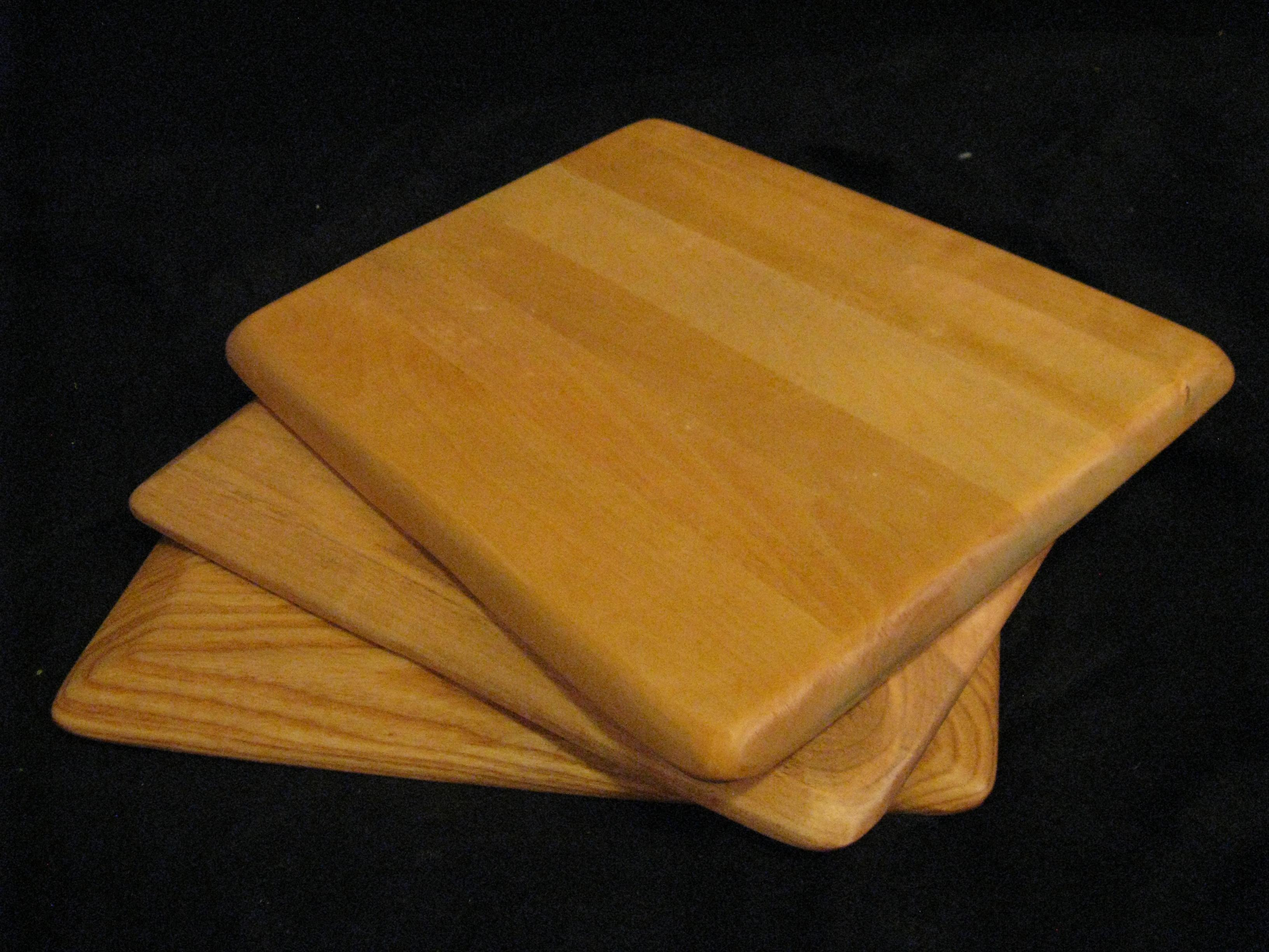gloved_hand: (218, 100, 1239, 779)
